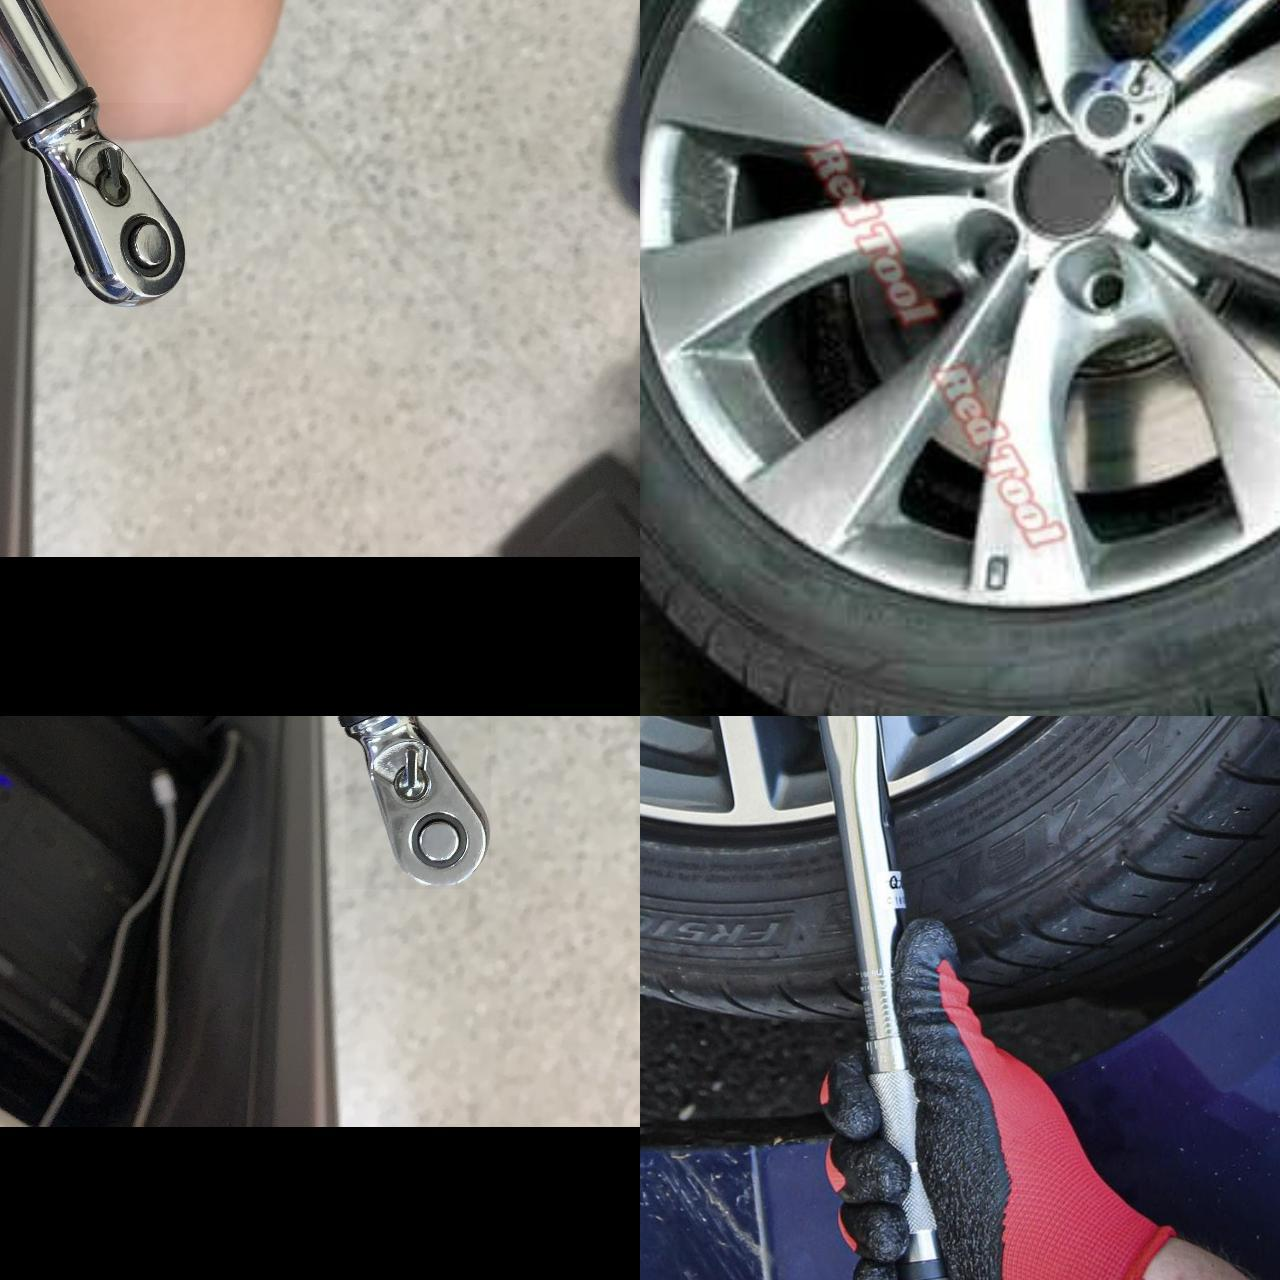Tool: (20, 103, 186, 307), (343, 716, 490, 888), (1069, 55, 1177, 155)
